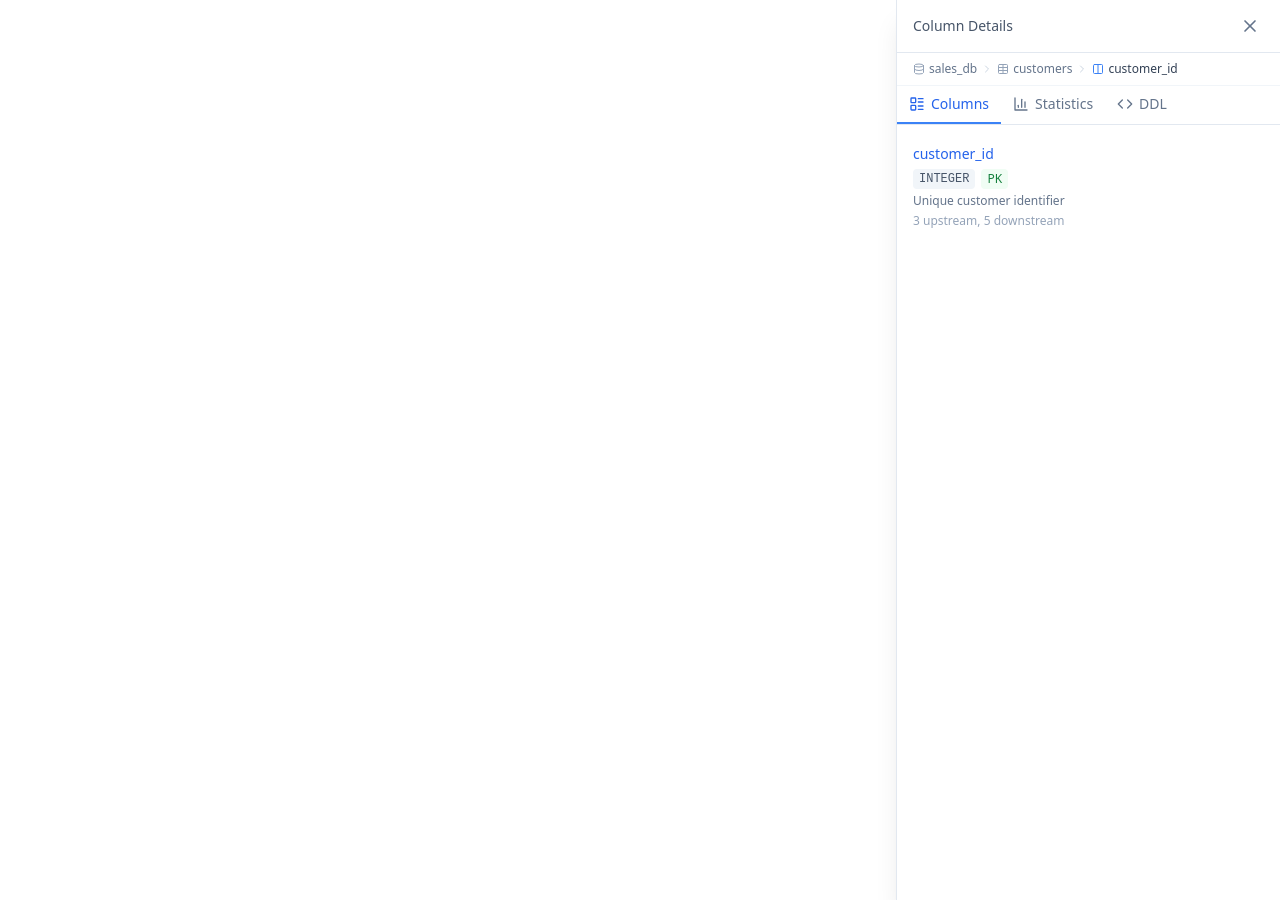
Test: DetailPanel › TC-PANEL-01: Tab switching › shows DDL tab content when clicked
Click the tab "DDL" at (1142, 105), box [1105,86,1179,124]
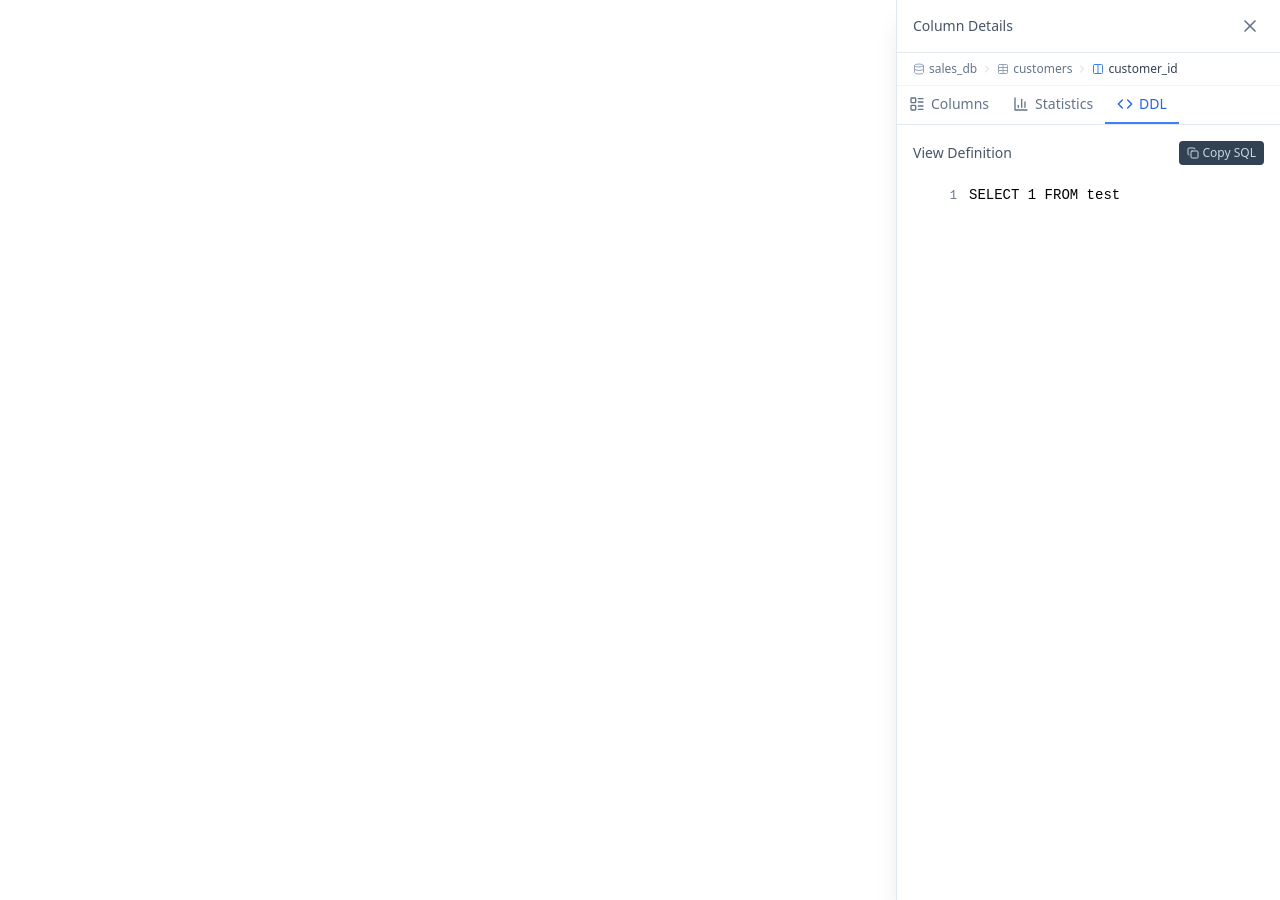
Now the heading "View Definition" is shown, box [913,143,1012,163]
